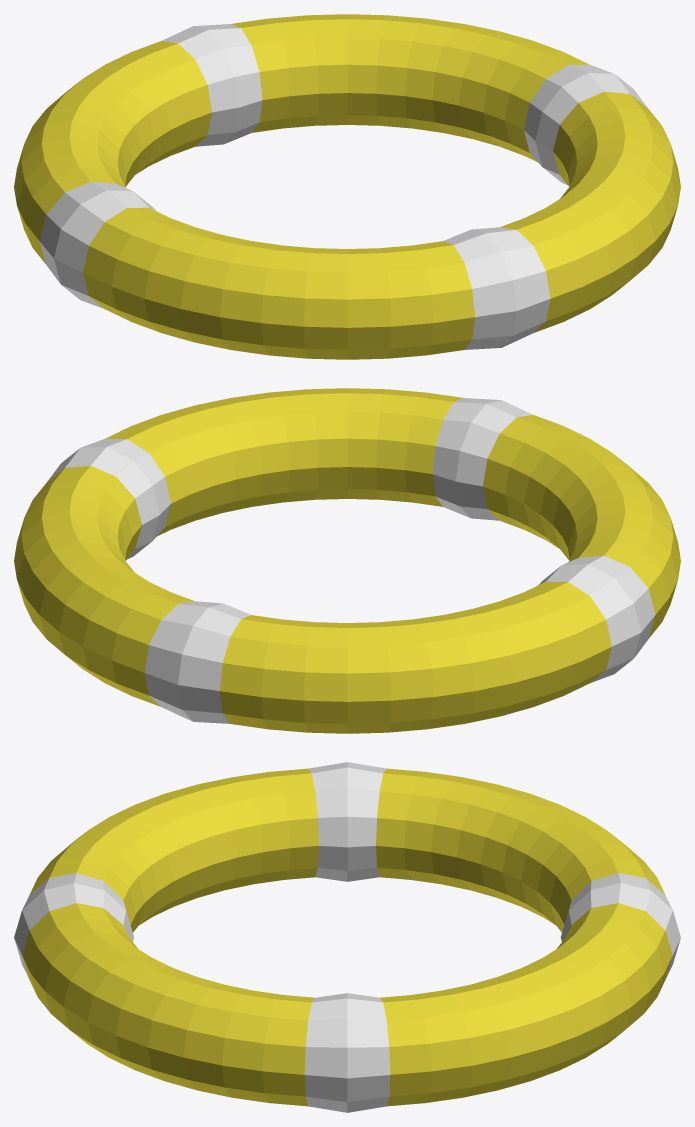
The model's file is ring.fbx.
The picture shows the model from 3 angles, top to bottom: view 1: azimuth 30°, elevation 25°; view 2: azimuth 150°, elevation 25°; view 3: azimuth 270°, elevation 25°; orthographic projection.
Visible parts, largest first — view 1: Torus; view 2: Torus; view 3: Torus.
Boxes of the visible parts, bbox=[...] form: Torus: bbox=[14, 14, 680, 359]; Torus: bbox=[14, 388, 680, 733]; Torus: bbox=[14, 762, 680, 1112].
Size of the model in its own units: 61 by 11 by 61.
